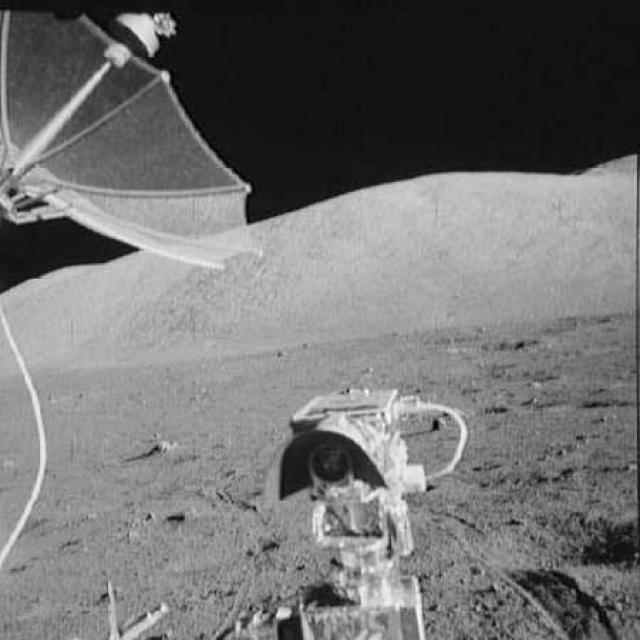artifact: (0, 6, 257, 278), (252, 376, 482, 640), (2, 314, 68, 587)
rock: (153, 431, 182, 458)
